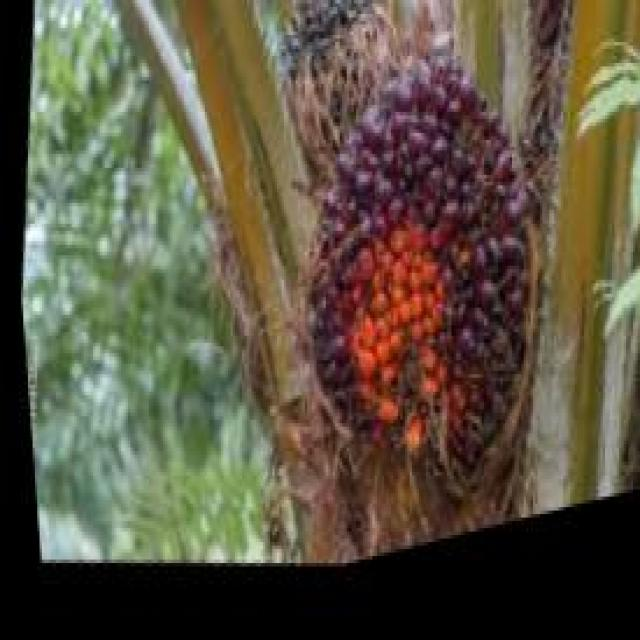Ripefruit: (263, 21, 559, 549)
